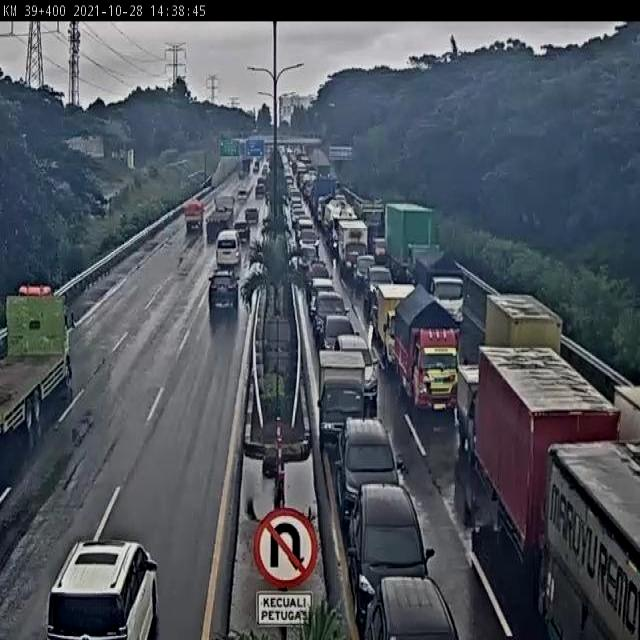Car: (345, 479, 437, 629), (44, 533, 158, 640), (335, 418, 401, 526), (363, 574, 461, 640), (334, 332, 383, 405), (208, 269, 240, 324), (314, 292, 353, 336), (321, 313, 357, 357), (364, 264, 394, 308), (309, 276, 336, 321), (353, 252, 376, 287), (299, 240, 319, 269), (297, 228, 321, 252), (308, 259, 329, 282), (371, 234, 387, 261), (235, 216, 250, 243), (302, 178, 316, 206), (297, 217, 314, 240), (244, 206, 259, 229), (292, 208, 306, 222), (237, 188, 248, 203), (256, 183, 266, 198), (261, 162, 269, 177), (257, 177, 266, 186)
Truck: (472, 348, 618, 548), (540, 440, 638, 638), (0, 280, 78, 437), (386, 284, 462, 414), (316, 348, 367, 446), (383, 202, 441, 282), (484, 294, 562, 353), (368, 282, 414, 371), (455, 362, 488, 457), (413, 250, 461, 301), (610, 379, 640, 449), (334, 218, 368, 277), (322, 198, 355, 255), (352, 191, 386, 238), (208, 196, 235, 243), (311, 174, 337, 214), (182, 198, 205, 234), (238, 157, 250, 178), (253, 159, 260, 172)
Van: (216, 229, 242, 267)
